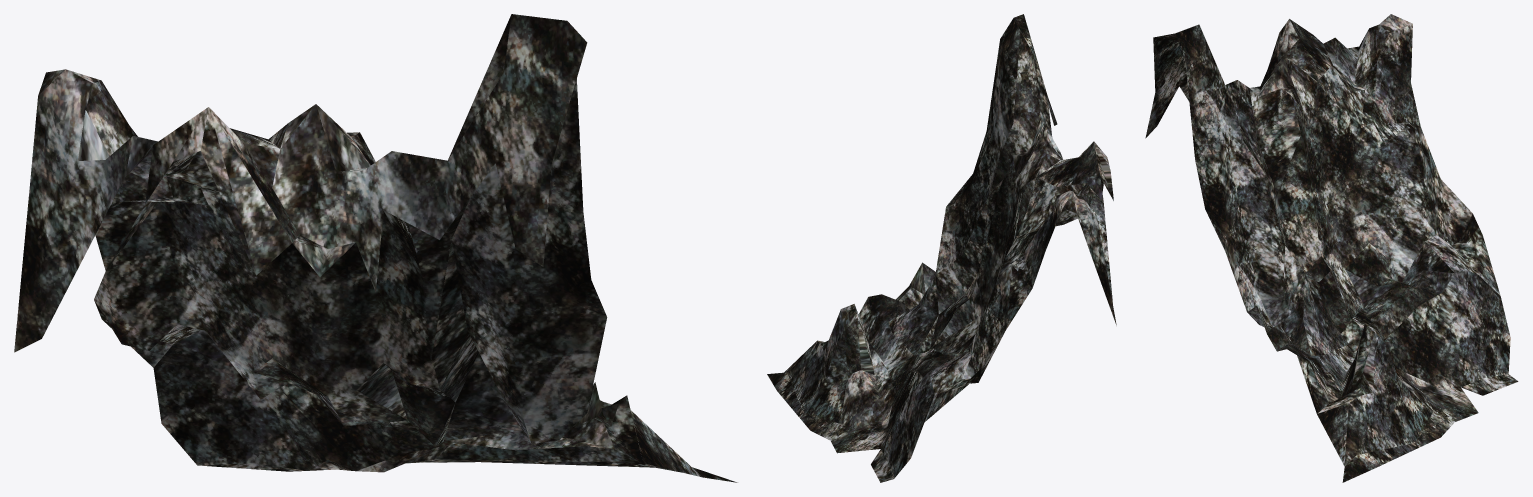
The model's file is OVERHILL_A_01_MOUN1_OBJECT148.fbx.
The picture shows the model from 3 angles, left to right: view 1: azimuth 30°, elevation 25°; view 2: azimuth 150°, elevation 25°; view 3: azimuth 270°, elevation 25°; orthographic projection. The views are drawn at different scales.
Parts seen in each view (by area): view 1: OVERHILL_A_01_MOUN1_OBJECT148; view 2: OVERHILL_A_01_MOUN1_OBJECT148; view 3: OVERHILL_A_01_MOUN1_OBJECT148.
Boxes of the visible parts, x1,y1,x2,y2 form: OVERHILL_A_01_MOUN1_OBJECT148: [14, 14, 737, 482]; OVERHILL_A_01_MOUN1_OBJECT148: [767, 14, 1116, 482]; OVERHILL_A_01_MOUN1_OBJECT148: [1145, 14, 1518, 482].
Bounding box in the file's own units: 378617 × 338630 × 315381.
Materials: 1 (1 with a texture image).
